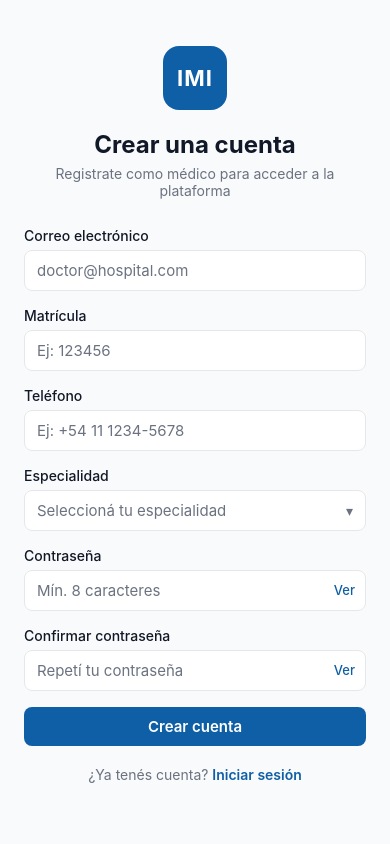
Test: SignupScreen › shows validation error for short password
Type "doc@h.com" into the field with placeholder "doctor@hospital.com". click: (195, 270)
box: [25,250,365,290]
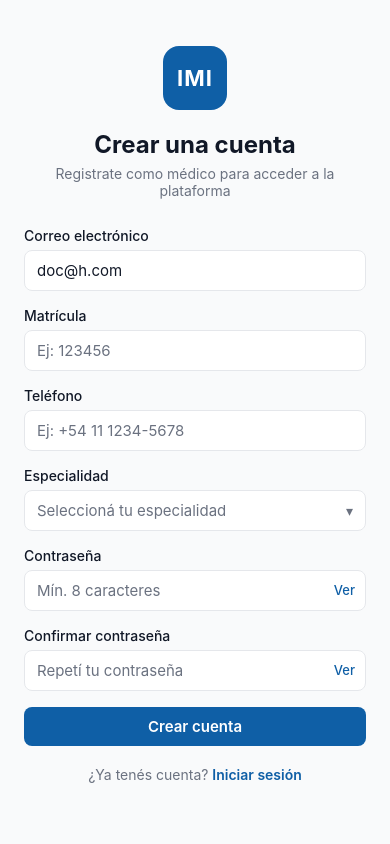
Type "123456" into the field with placeholder "Ej: 123456". click: (195, 350)
box: [25,330,365,370]
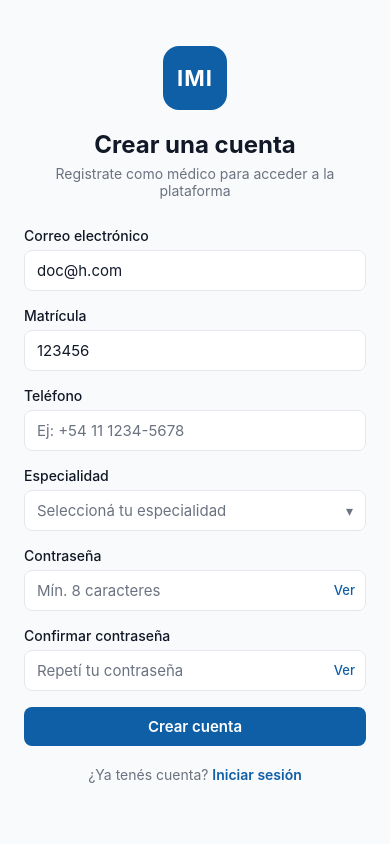
Type "+5411123456" into the field with placeholder "Ej: +54 11 1234-5678". click: (195, 430)
box: [25,410,365,450]
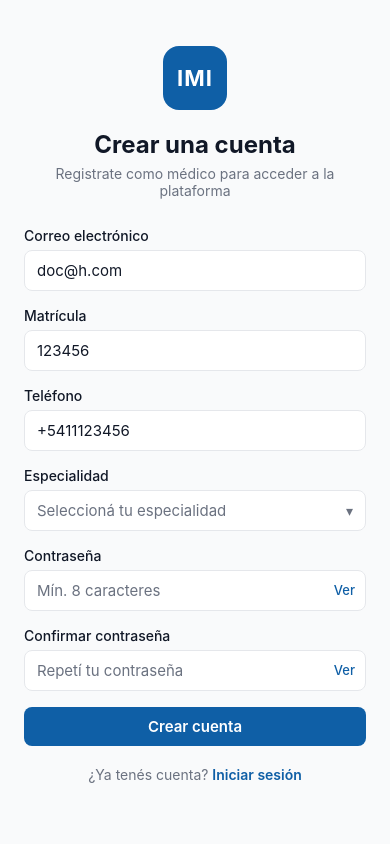
Type "short" into the password field with placeholder "Mín. 8 caracteres". click: (179, 590)
box: [25,570,334,610]
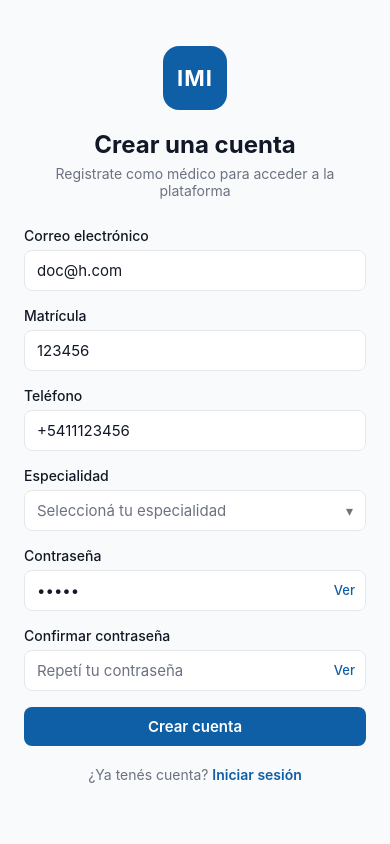
Type "short" into the password field with placeholder "Repetí tu contraseña". click: (179, 670)
box: [25,650,334,690]
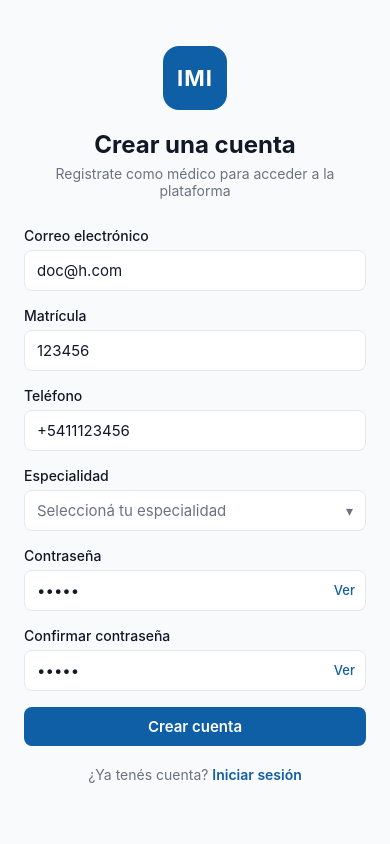
Click the text "Crear cuenta". click: (195, 726)
box: [148,716,242,736]
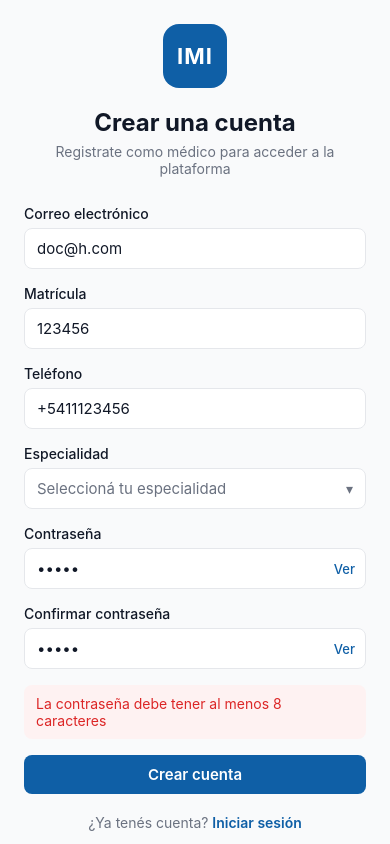
expect the text "La contraseña debe tener al menos 8 caracteres" is shown: met, box [36,695,286,729]
